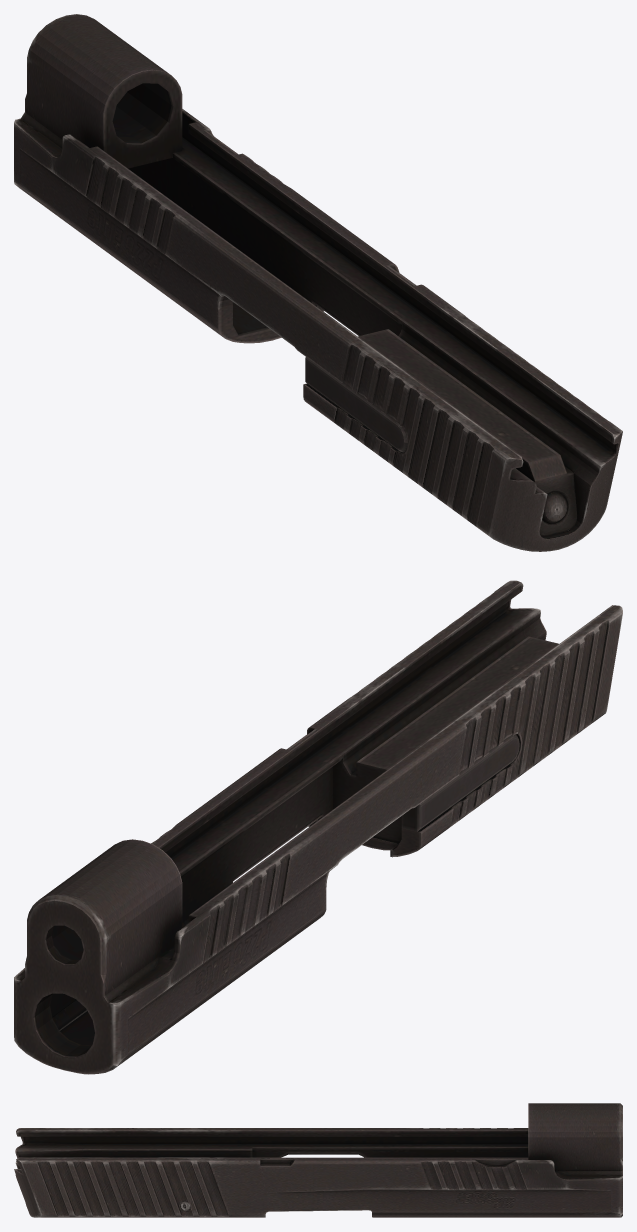
The picture shows the model from 3 angles, top to bottom: view 1: azimuth 30°, elevation 25°; view 2: azimuth 150°, elevation 25°; view 3: azimuth 270°, elevation 25°; orthographic projection. The views are drawn at different scales.
Parts seen in each view (by area): view 1: TW_5c010a700db834001d23ef5d_PZ_Import; view 2: TW_5c010a700db834001d23ef5d_PZ_Import; view 3: TW_5c010a700db834001d23ef5d_PZ_Import.
Boxes of the visible parts, left/top/right/bottom form: TW_5c010a700db834001d23ef5d_PZ_Import: left=14, top=14, right=622, bottom=551; TW_5c010a700db834001d23ef5d_PZ_Import: left=14, top=580, right=622, bottom=1074; TW_5c010a700db834001d23ef5d_PZ_Import: left=14, top=1103, right=622, bottom=1217.
Size of the model in its own units: 0.0142 by 0.1059 by 0.0201.
1 material, 1 textured.
